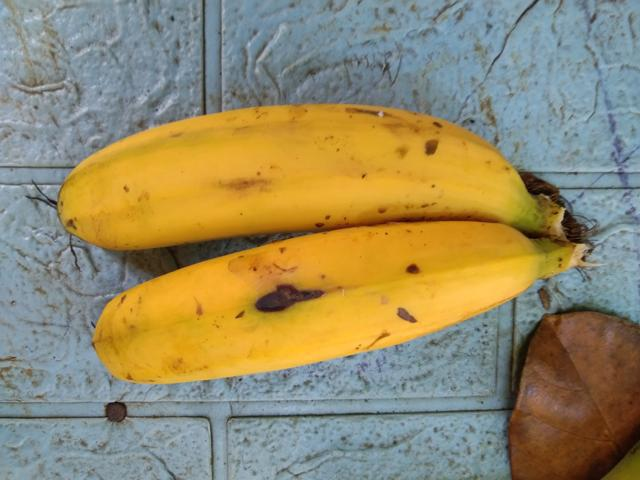freshripe: (40, 82, 512, 243)
ripe: (76, 233, 532, 444)
